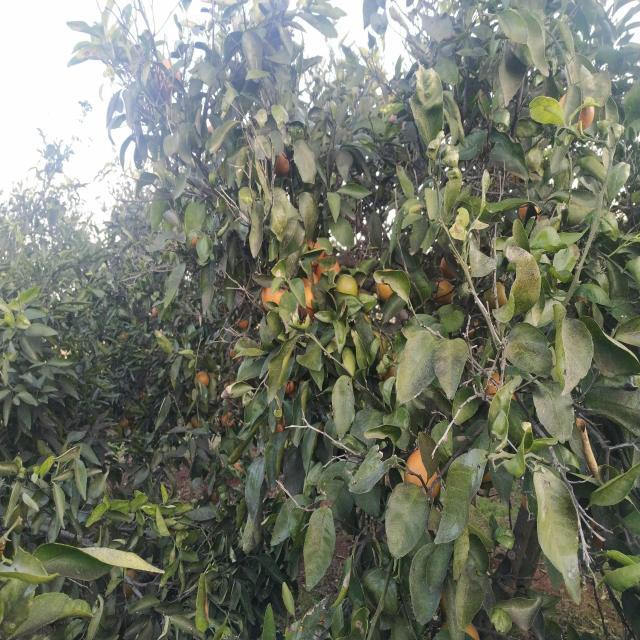Jeruk Belum Matang: (334, 274, 358, 300)
Jeruk Sudah Matang: (406, 448, 442, 498), (560, 91, 594, 131), (482, 373, 516, 400), (155, 60, 180, 95), (442, 620, 480, 640), (262, 286, 288, 312), (376, 268, 394, 302), (438, 254, 461, 279), (316, 256, 340, 278), (305, 239, 325, 265), (434, 278, 454, 304), (121, 570, 138, 598), (301, 286, 316, 316), (275, 153, 290, 177), (518, 203, 539, 220), (300, 272, 320, 288), (195, 371, 209, 388), (283, 379, 294, 394), (221, 412, 233, 425), (236, 317, 249, 327), (119, 420, 128, 428), (152, 307, 158, 317), (191, 238, 198, 246)
